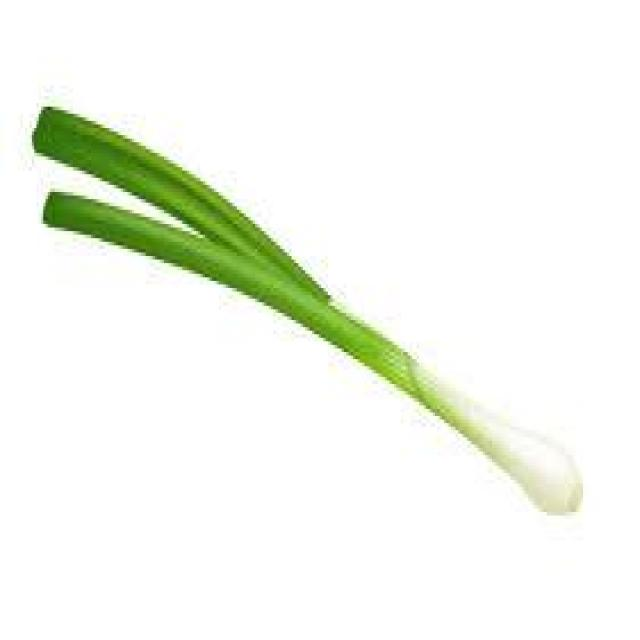Onion: (34, 107, 586, 519)
